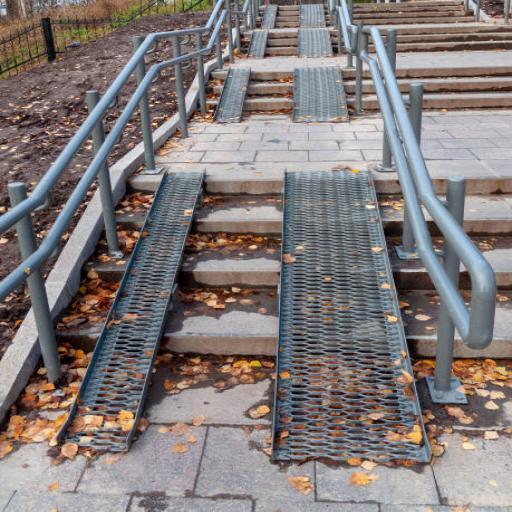ramp: (105, 176, 401, 318), (219, 68, 350, 122), (245, 30, 335, 58), (260, 5, 326, 28)
stairs: (430, 175, 511, 294), (396, 68, 512, 110), (378, 28, 512, 52), (351, 4, 480, 24)
